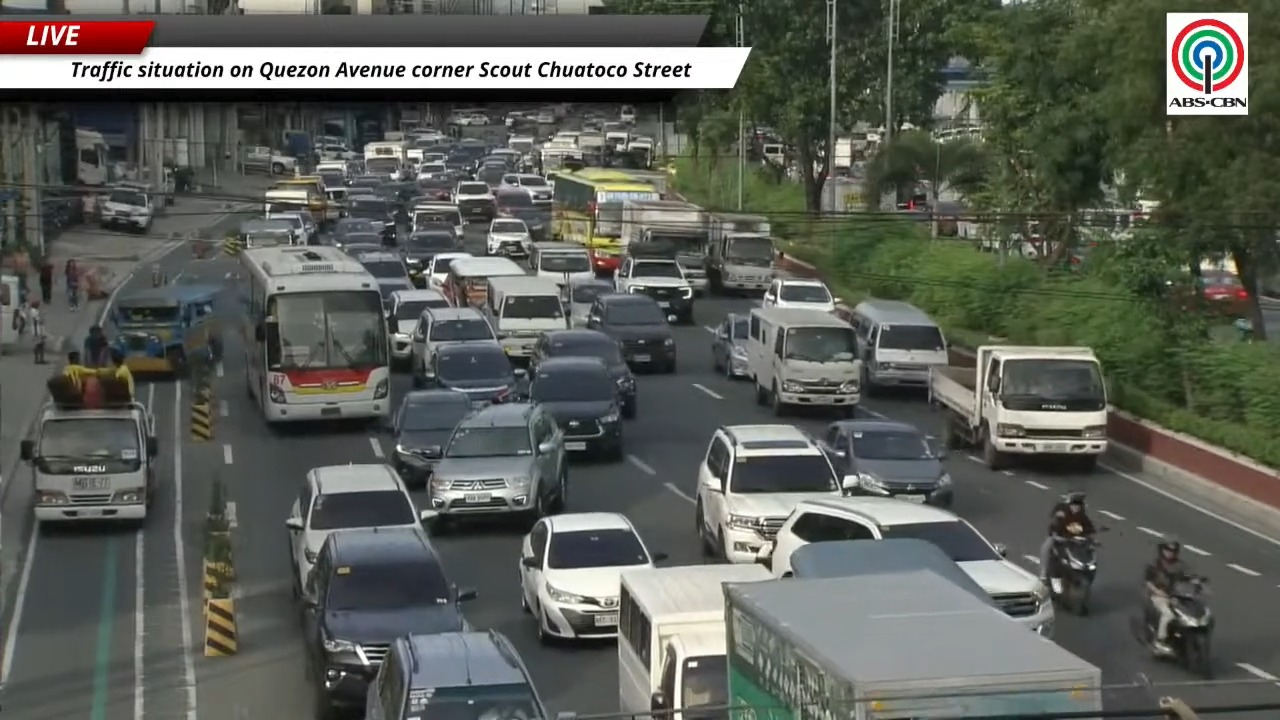bus: (238, 246, 390, 422), (552, 168, 660, 274)
car: (758, 497, 1053, 636), (302, 527, 475, 717), (694, 424, 843, 562), (519, 512, 665, 642), (425, 402, 568, 531), (285, 464, 421, 595), (364, 631, 548, 719), (820, 419, 953, 506), (527, 356, 624, 460), (530, 329, 637, 418), (389, 389, 471, 487), (587, 293, 676, 373), (411, 307, 499, 387), (422, 342, 525, 404), (615, 256, 695, 323), (388, 288, 450, 367), (400, 224, 460, 286), (495, 188, 549, 241), (565, 273, 615, 328), (762, 278, 839, 312), (711, 313, 748, 378), (1198, 269, 1249, 316), (347, 195, 396, 243), (101, 188, 153, 233), (356, 250, 411, 285), (423, 251, 472, 288), (486, 217, 532, 256), (454, 180, 495, 221), (330, 217, 382, 249), (501, 173, 551, 204), (378, 278, 414, 321), (265, 211, 308, 244), (340, 242, 384, 256), (619, 105, 637, 125)
motorcycle: (1142, 576, 1214, 678), (1047, 536, 1098, 616)
truck: (724, 571, 1101, 719), (617, 564, 771, 717), (928, 345, 1107, 471), (20, 368, 157, 522), (621, 200, 707, 295), (706, 212, 775, 293), (622, 168, 673, 199)
